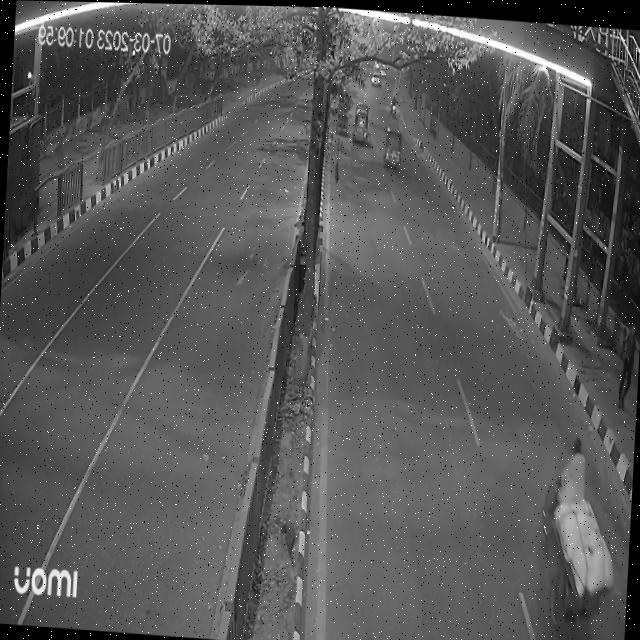cng: (378, 122, 408, 173), (351, 101, 374, 145)
